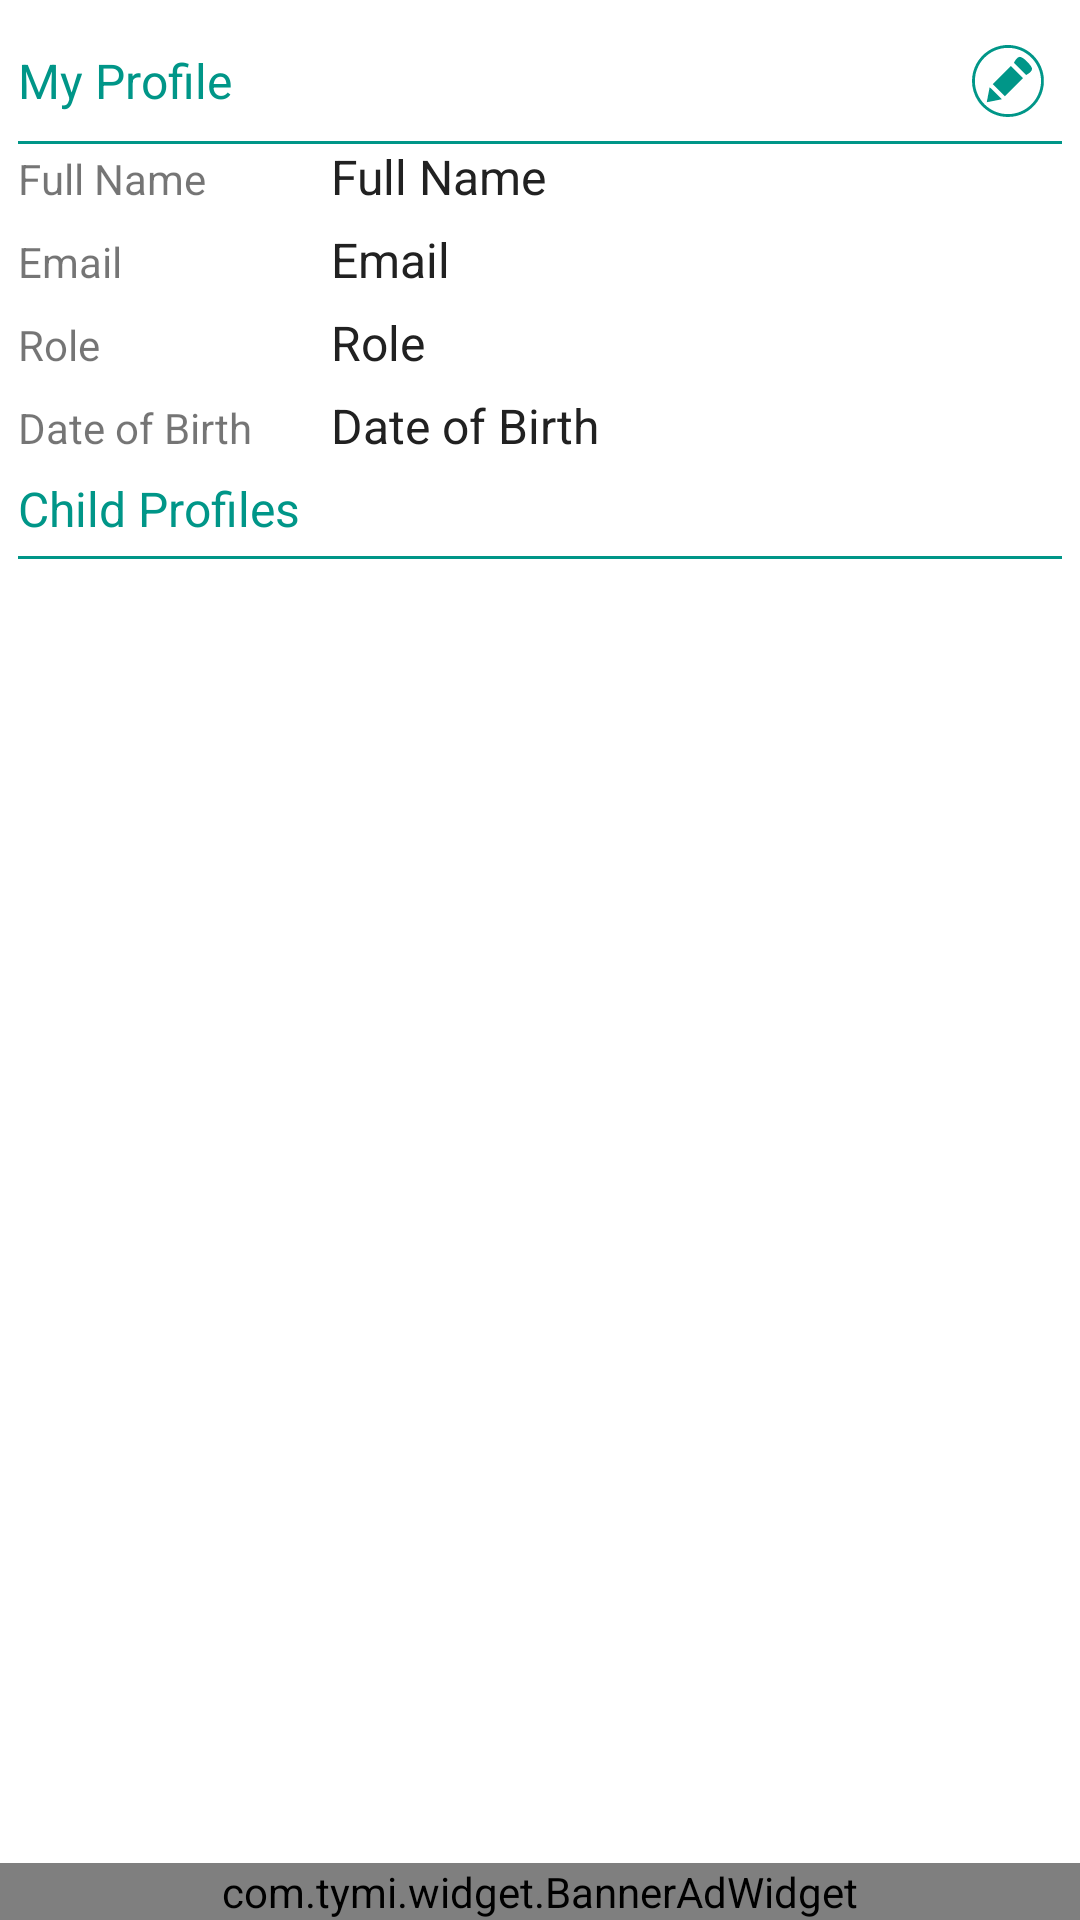

Screen size 1080x1920. Icon name, then its box in pixels as (x1,y1,x2,y2):
edit: (972,45,1044,117)
